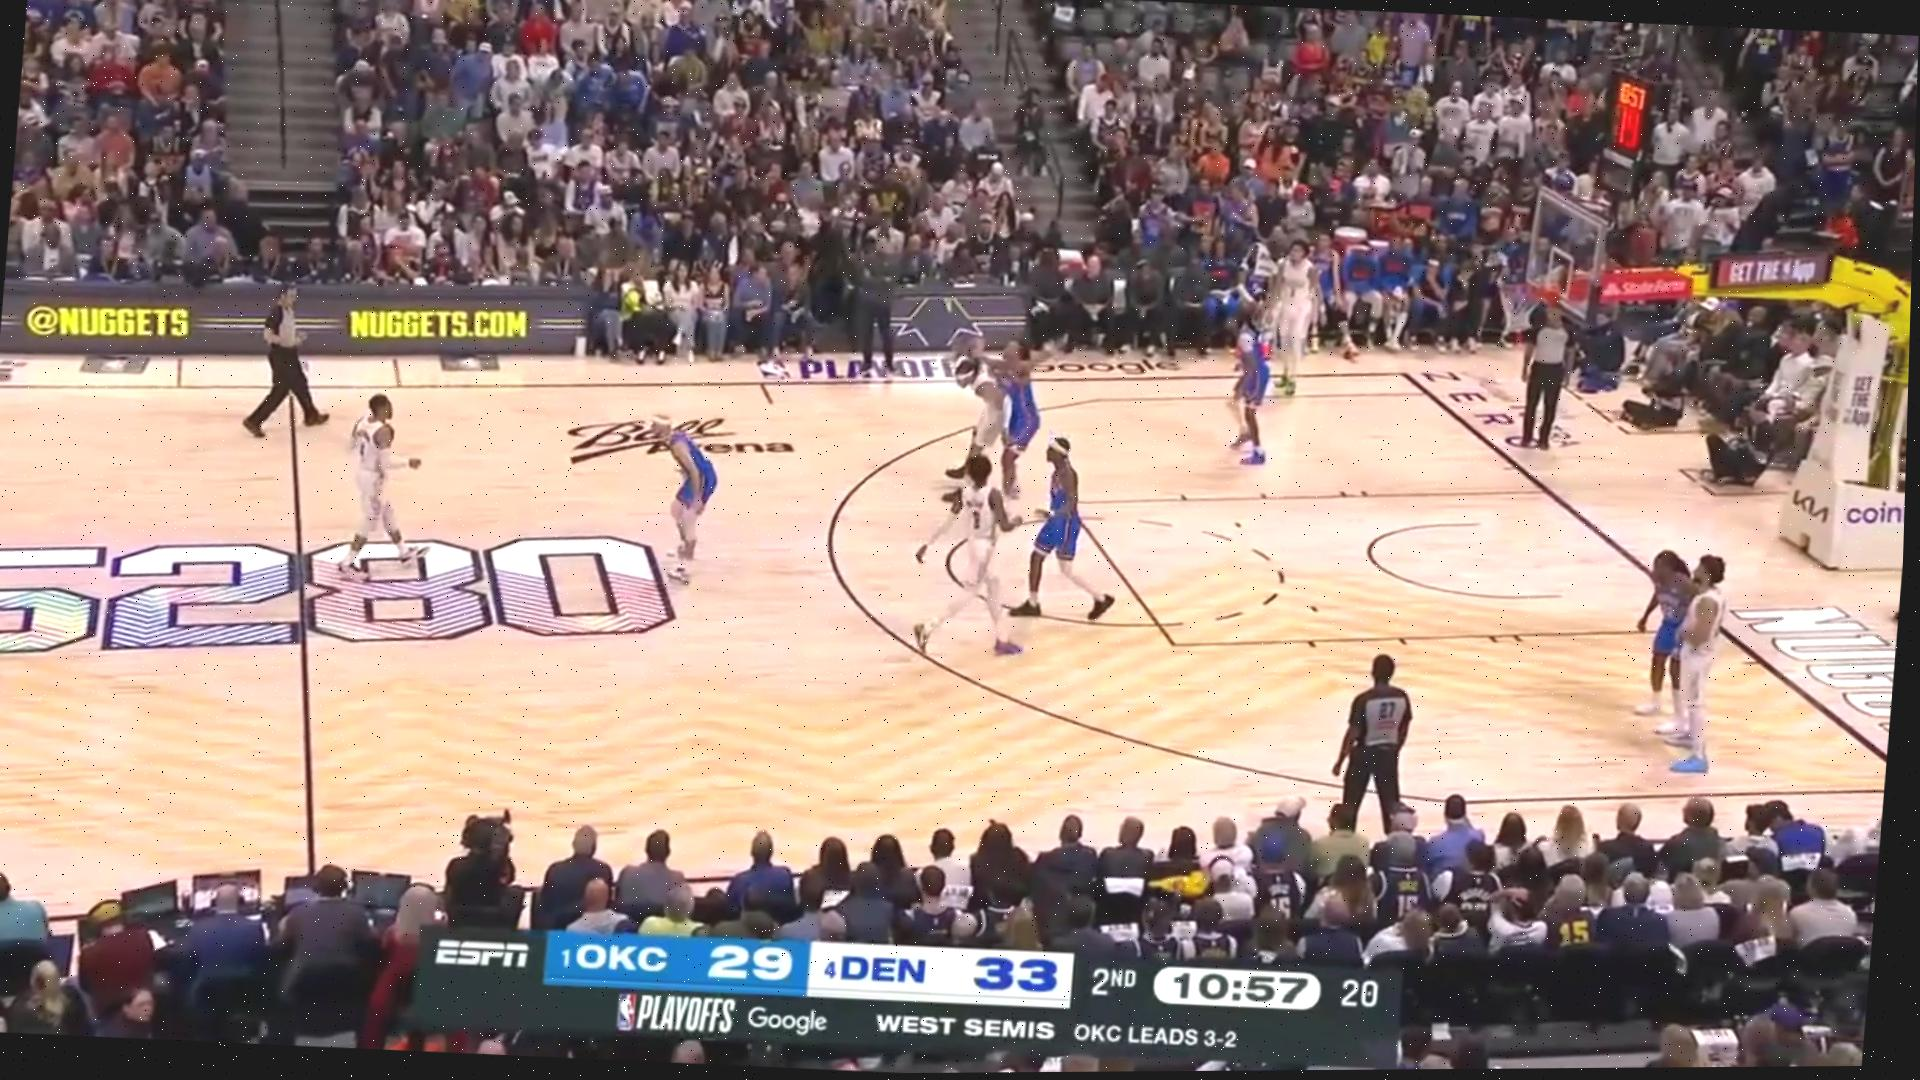foul: (923, 309, 1069, 497)
